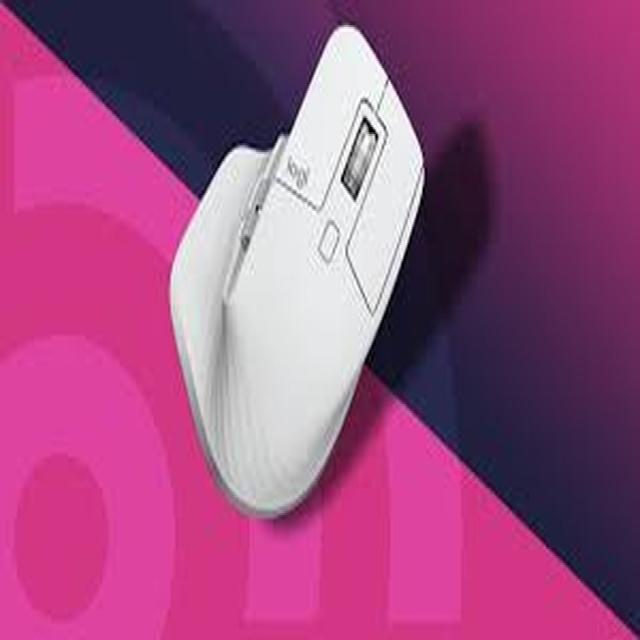mouse: (138, 49, 438, 567)
